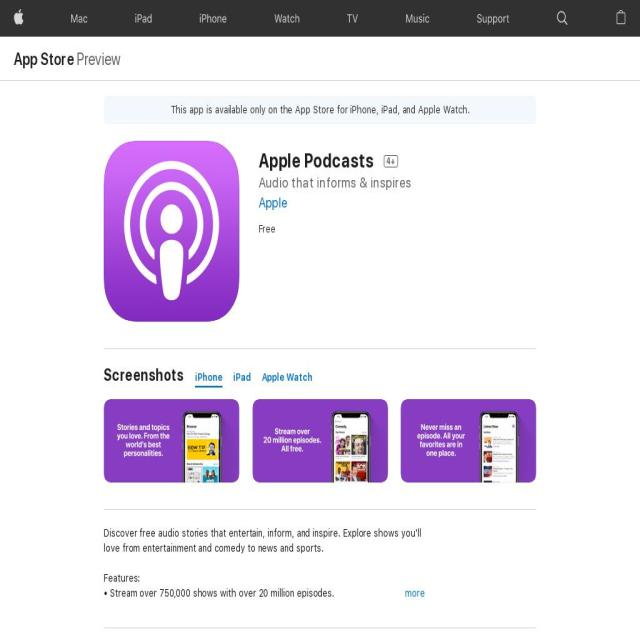button: (470, 0, 516, 37), (193, 0, 234, 37), (268, 0, 306, 37), (400, 0, 436, 37), (129, 0, 159, 37), (14, 50, 74, 68), (65, 0, 94, 37), (262, 368, 312, 388), (341, 0, 365, 37), (608, 0, 632, 37), (8, 0, 30, 37), (195, 368, 223, 388), (232, 368, 252, 388)
heading: (258, 173, 536, 192), (258, 148, 374, 172), (104, 365, 184, 385), (258, 193, 288, 211), (383, 154, 398, 168)
image: (0, 37, 640, 80), (104, 140, 239, 322), (252, 399, 388, 483), (401, 399, 537, 483), (104, 399, 239, 483), (549, 399, 640, 483), (550, 0, 574, 37)
text: (104, 526, 425, 556), (104, 616, 425, 640), (114, 102, 526, 118), (104, 571, 425, 586), (104, 586, 425, 601), (104, 601, 425, 616), (14, 49, 74, 70), (76, 49, 121, 70), (258, 222, 276, 236)
